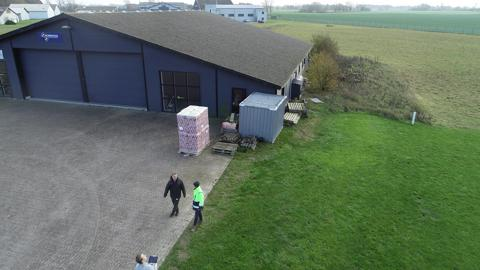RockwoolPallet: (176, 104, 211, 156)
